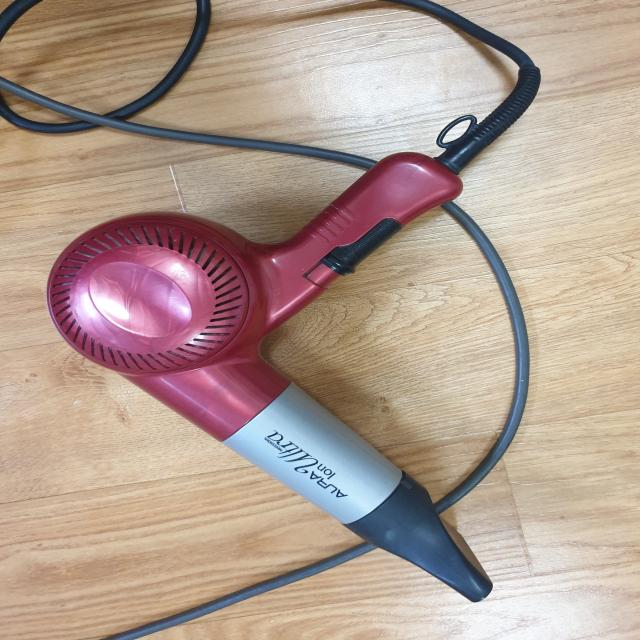dryer: (44, 65, 542, 605)
